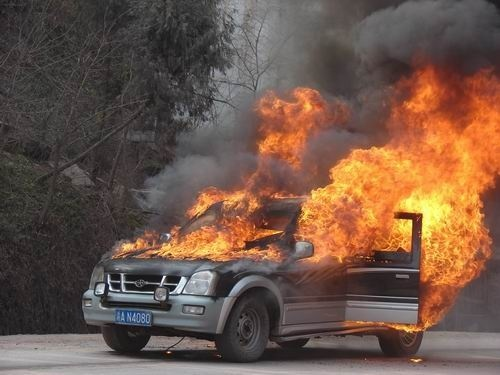fire: (135, 79, 500, 268)
